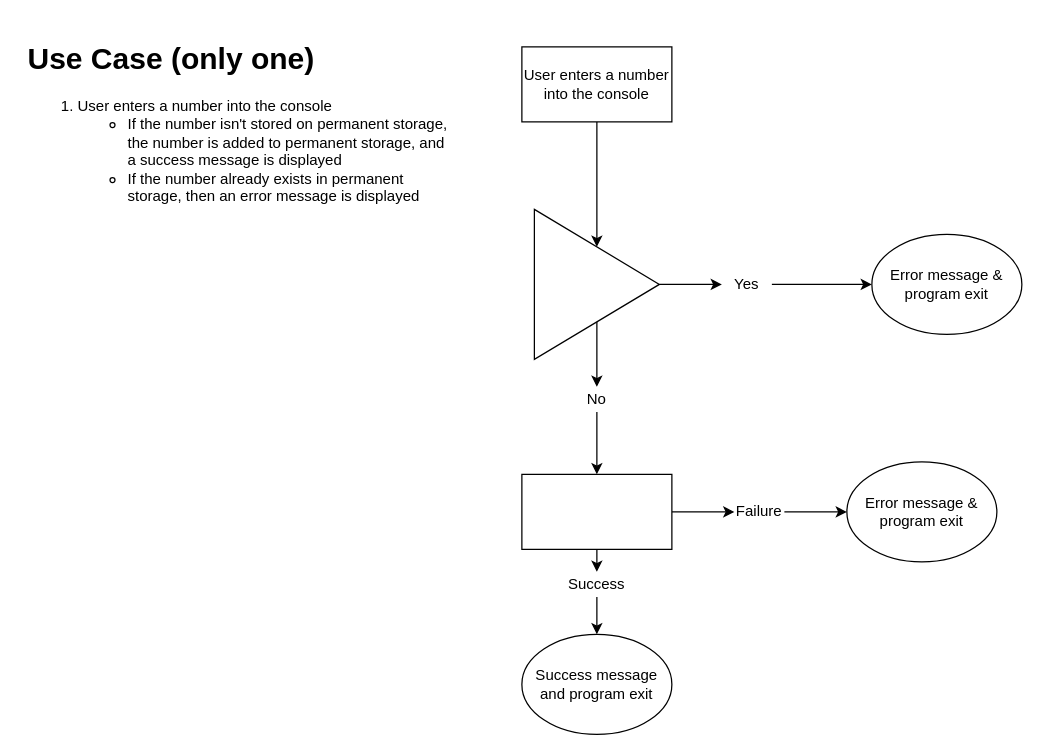
Image size: 1044x756. Some labels were removed from this diagram. The shapes that lost their labels are listed below. From the top down, each one's centre as x and y in pixels, then its label:
At point (596, 283): "Number exists in permanent storage?".
At point (596, 511): "Attempt to serialize number to HDD using Java IO".
